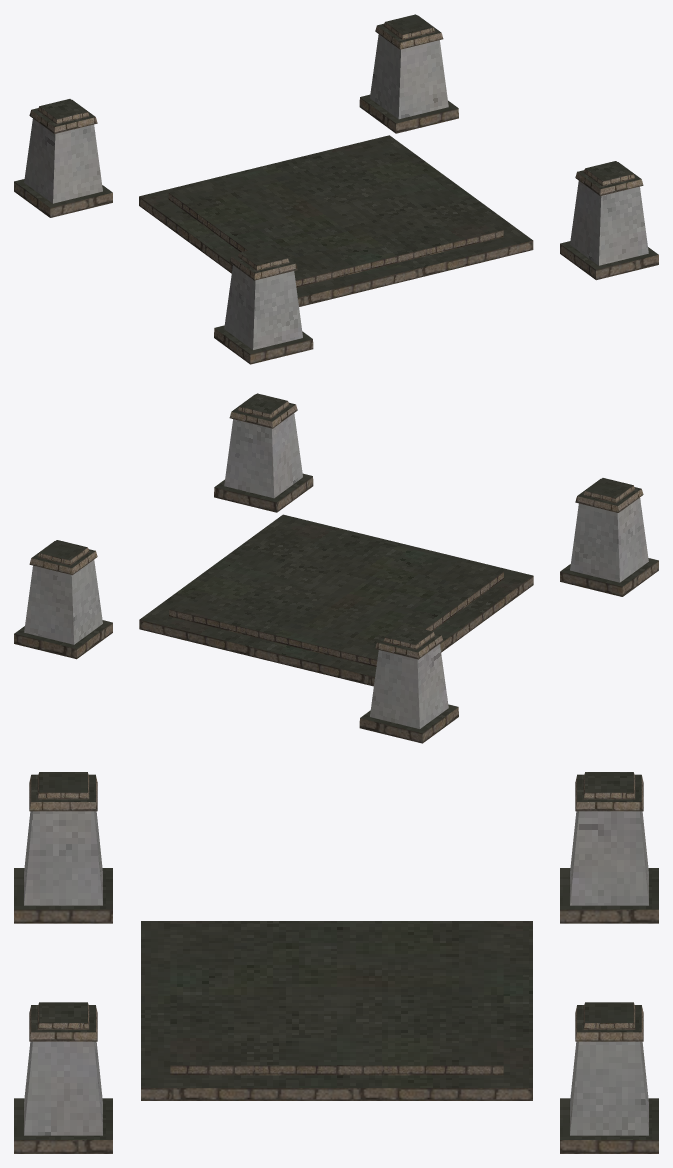
The model's file is castle_grass.fbx.
3 views of the same model, one above another, from view 1: azimuth 30°, elevation 25°; view 2: azimuth 150°, elevation 25°; view 3: azimuth 270°, elevation 25° (orthographic). The views are drawn at different scales.
Parts seen in each view (by area): view 1: pasted__decorative-2; view 2: pasted__decorative-2; view 3: pasted__decorative-2.
Part boxes in pixels (x1,y1,x2,y2): pasted__decorative-2: (14,14,658,364); pasted__decorative-2: (14,393,658,743); pasted__decorative-2: (14,772,658,1153).
Size of the model in its own units: 394 by 81.24 by 395.
Materials: 3 (3 with a texture image).
